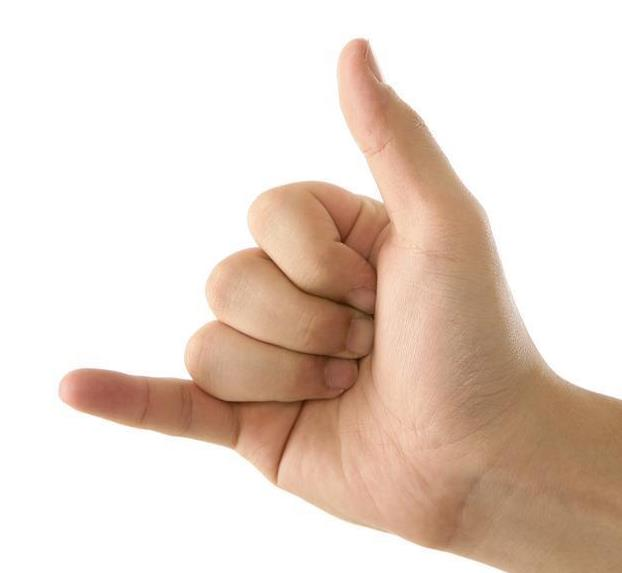clockwise: (50, 22, 506, 531)
